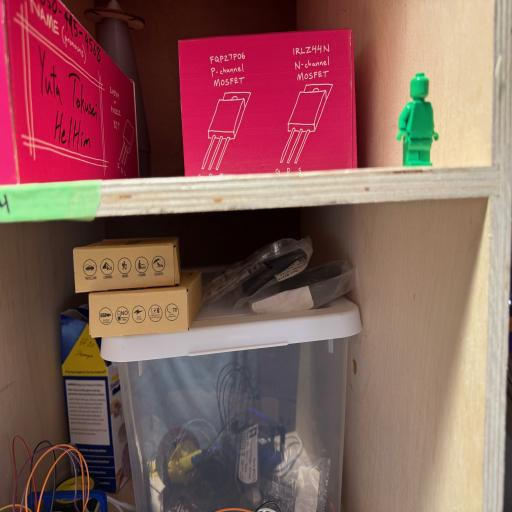Lego-Dude: (397, 73, 438, 166)
